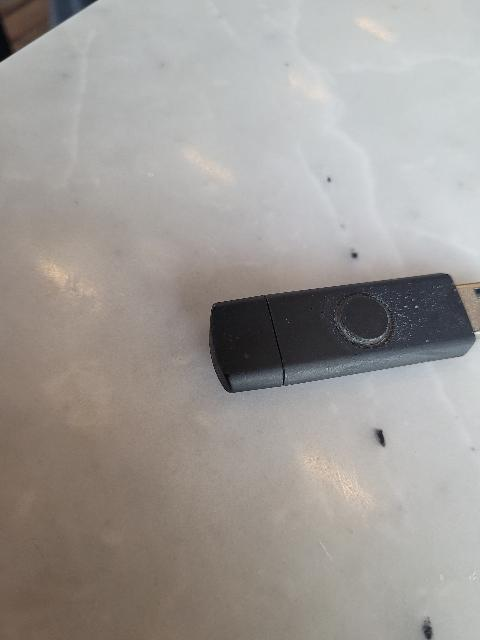Plastik: (205, 269, 480, 386)
